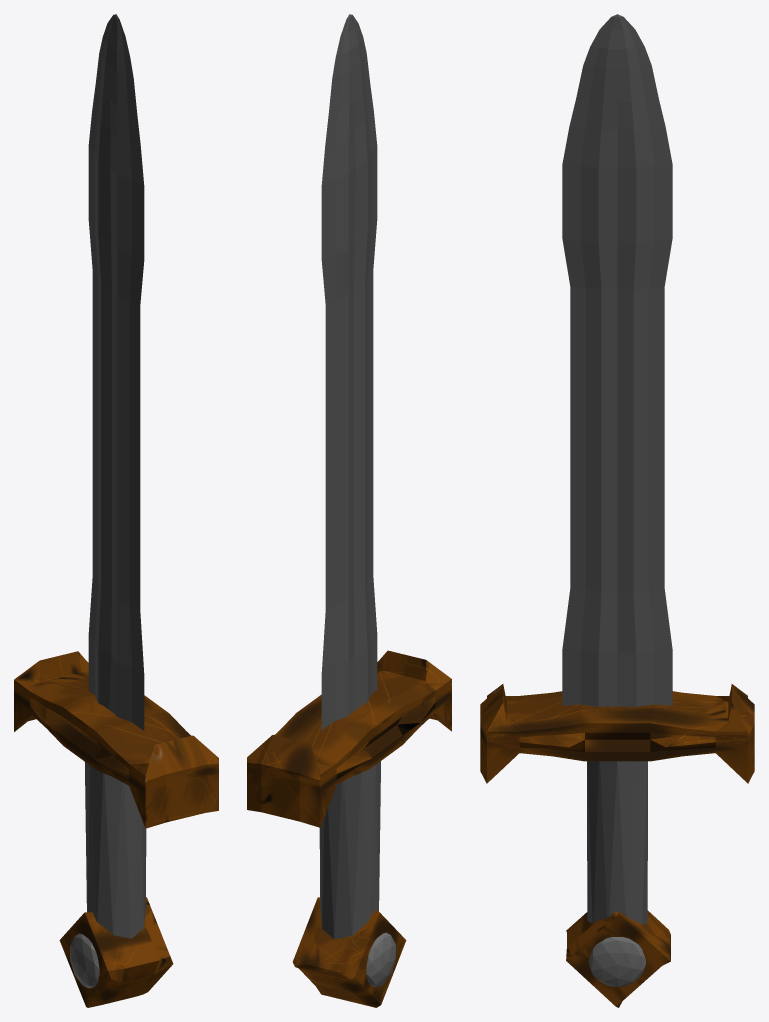
The model's file is broad_sword.glb.
The picture shows the model from 3 angles, left to right: view 1: azimuth 30°, elevation 25°; view 2: azimuth 150°, elevation 25°; view 3: azimuth 270°, elevation 25°; orthographic projection.
Visible parts, largest first — view 1: Cube.001; view 2: Cube.001; view 3: Cube.001.
Part boxes in pixels (x1=…): Cube.001: x1=14, y1=14, x2=218, y2=1007; Cube.001: x1=247, y1=14, x2=451, y2=1007; Cube.001: x1=480, y1=14, x2=754, y2=1007.
Bounding box in the file's own units: 0.1286 × 1.29 × 0.3267.
Materials: 3 (1 with a texture image).
